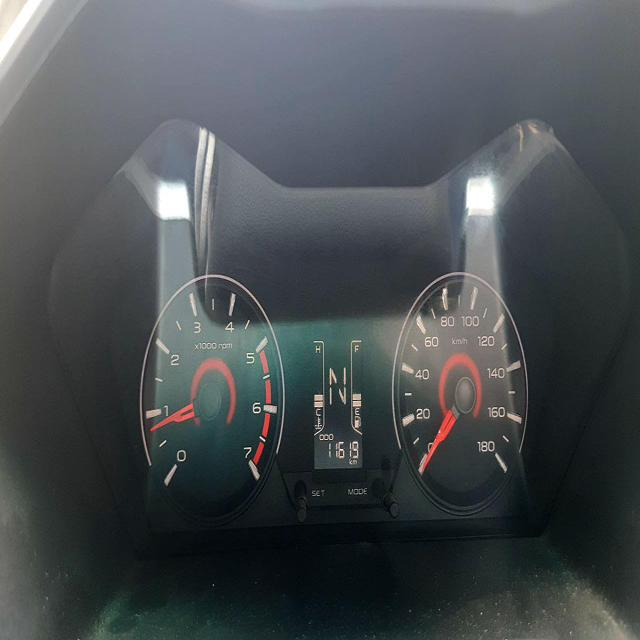odometer: (326, 438, 360, 460)
